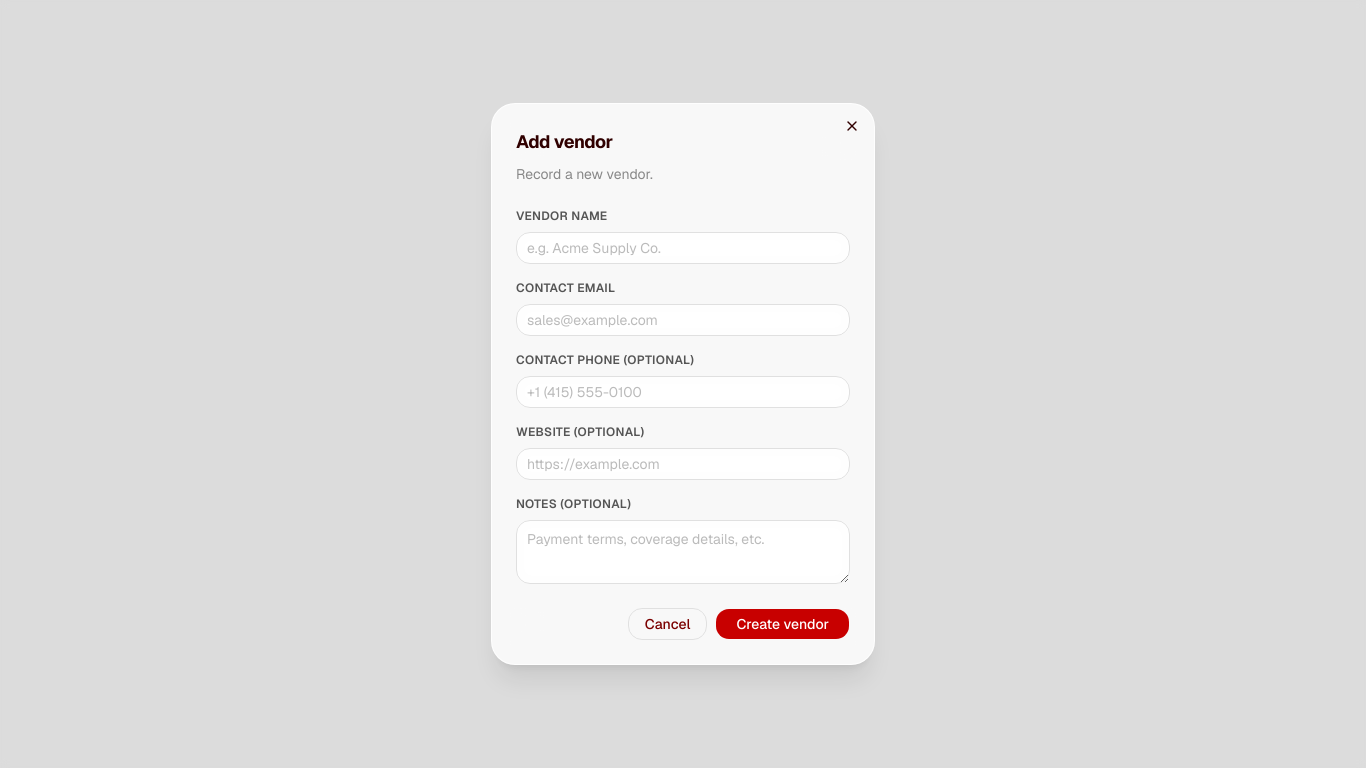
it: VendorFormModal › shows a validation error when the name is empty
This screenshot has width=1366, height=768.
Type "only@example.com" into the field with test id "vendor-form-email". click: [683, 320]
box: [516,304,850,336]
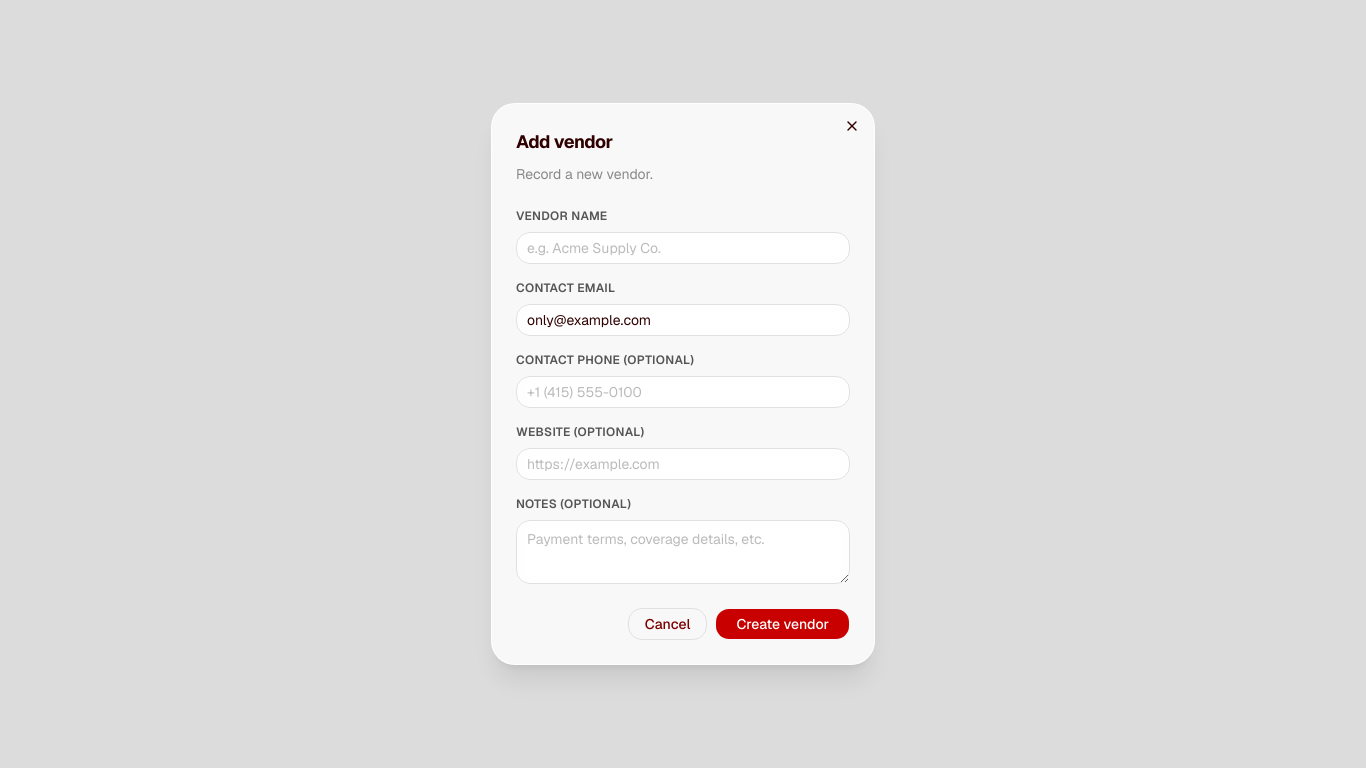
Submit the form with test id "vendor-form", box [516,208,850,640]
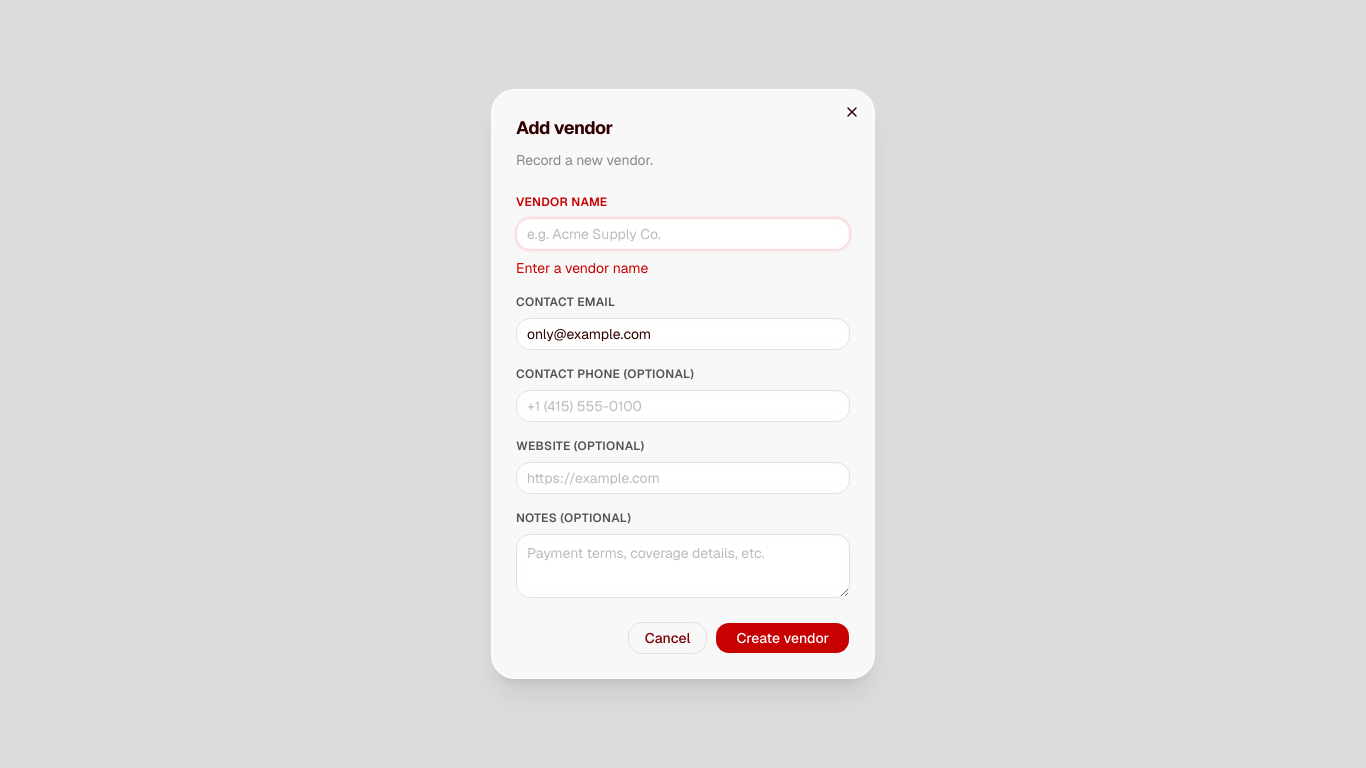
Now the text "Enter a vendor name" is shown, box [516,259,648,277]
